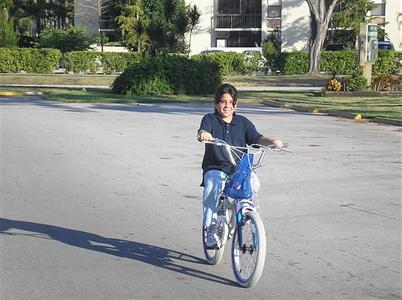person: (199, 84, 284, 253)
